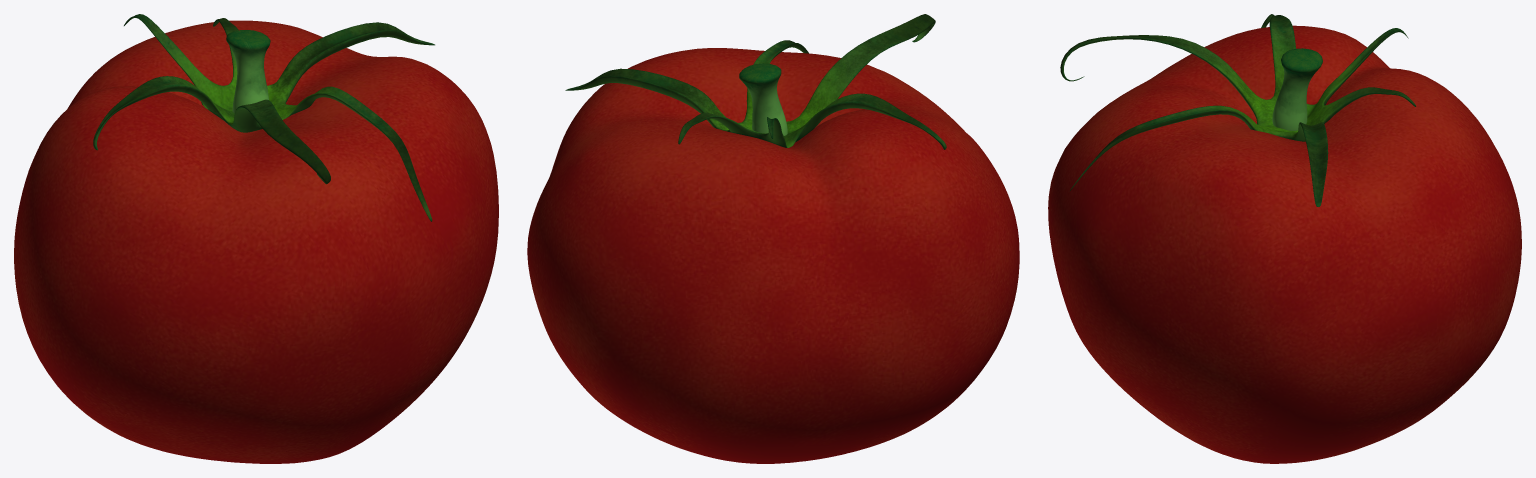
Rendered from tomat.glb.
3 renders of one model, left to right at view 1: azimuth 30°, elevation 25°; view 2: azimuth 150°, elevation 25°; view 3: azimuth 270°, elevation 25°, orthographic. The views are drawn at different scales.
Visible parts, largest first — view 1: Cube, Cube.002, Cube.001; view 2: Cube, Cube.002, Cube.001; view 3: Cube, Cube.002, Cube.001.
Boxes of the visible parts, x1=… form: Cube: x1=14, y1=20, x2=498, y2=463; Cube.002: x1=93, y1=14, x2=434, y2=221; Cube.001: x1=226, y1=30, x2=270, y2=113; Cube: x1=527, y1=48, x2=1019, y2=463; Cube.002: x1=565, y1=14, x2=946, y2=149; Cube.001: x1=739, y1=63, x2=787, y2=135; Cube: x1=1048, y1=25, x2=1521, y2=463; Cube.002: x1=1060, y1=14, x2=1415, y2=206; Cube.001: x1=1272, y1=48, x2=1322, y2=130.
Bounding box in the file's own units: 0.3368 × 0.2981 × 0.3269.
3 materials, 3 textured.
